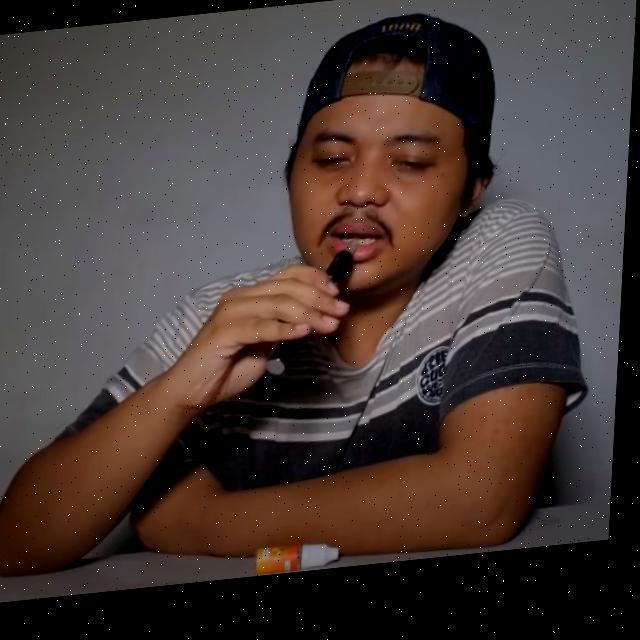vape: (269, 245, 363, 383)
